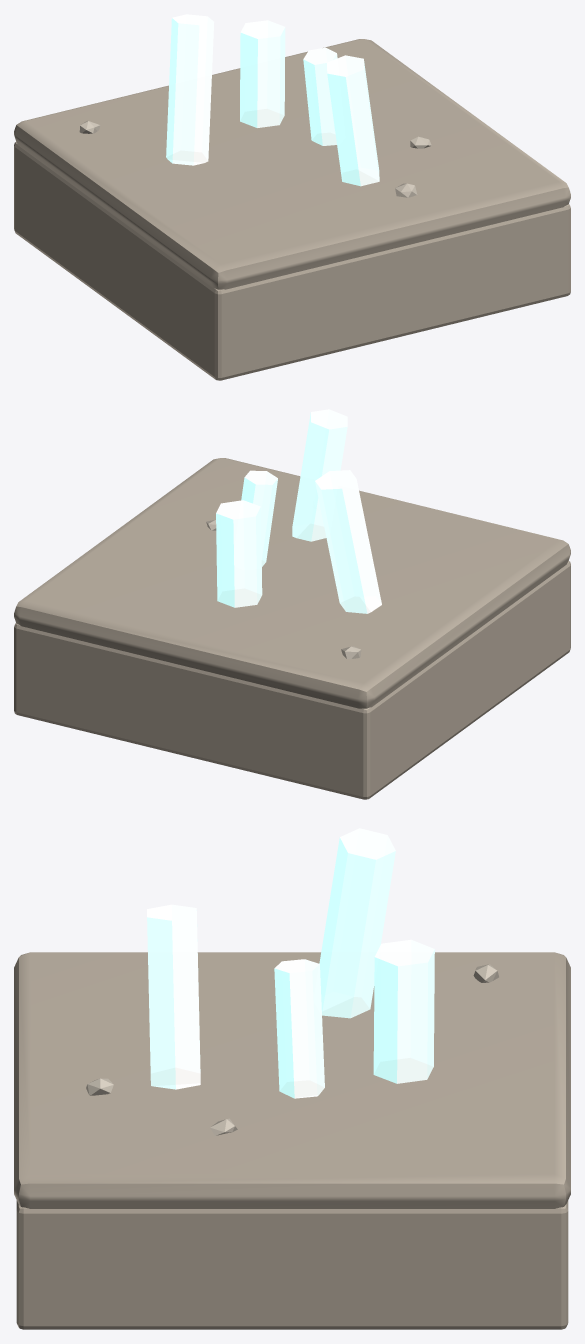
Rendered from tile_stone_crystal.glb.
The picture shows the model from 3 angles, top to bottom: view 1: azimuth 30°, elevation 25°; view 2: azimuth 150°, elevation 25°; view 3: azimuth 270°, elevation 25°; orthographic projection. The views are drawn at different scales.
Parts seen in each view (by area): view 1: scr_cap, scr_body, scr_c1, scr_c2, scr_c0, scr_c3; view 2: scr_cap, scr_body, scr_c1, scr_c0, scr_c2, scr_c3; view 3: scr_cap, scr_body, scr_c1, scr_c2, scr_c0, scr_c3.
Part boxes in pixels (<box>): scr_cap: <box>14,39,570,289</box>; scr_body: <box>14,142,570,380</box>; scr_c1: <box>166,14,214,165</box>; scr_c2: <box>327,55,379,186</box>; scr_c0: <box>240,20,285,127</box>; scr_c3: <box>303,47,337,145</box>; scr_cap: <box>14,458,570,708</box>; scr_body: <box>14,561,570,799</box>; scr_c1: <box>315,470,381,613</box>; scr_c0: <box>216,500,262,607</box>; scr_c2: <box>292,409,347,541</box>; scr_c3: <box>241,470,277,566</box>; scr_cap: <box>14,952,570,1208</box>; scr_body: <box>16,1200,568,1329</box>; scr_c1: <box>319,828,395,1018</box>; scr_c2: <box>147,904,200,1089</box>; scr_c0: <box>373,939,434,1083</box>; scr_c3: <box>274,959,324,1098</box>.
Bounding box in the file's own units: 2.02 × 1.32 × 2.02.
